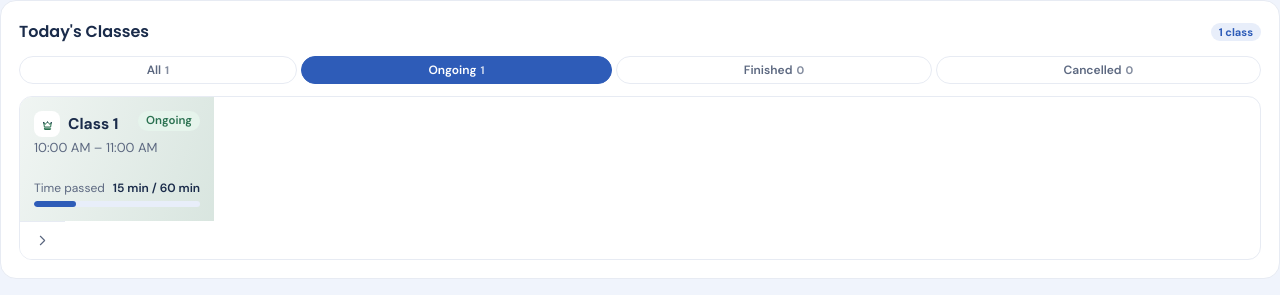
Test: today's classes filter › says a filter matched nothing without borrowing the empty day's copy
This screenshot has width=1280, height=295.
Click the radio button with aria-label "Finished (0)".
click(774, 70)  # box [616,56,932,84]
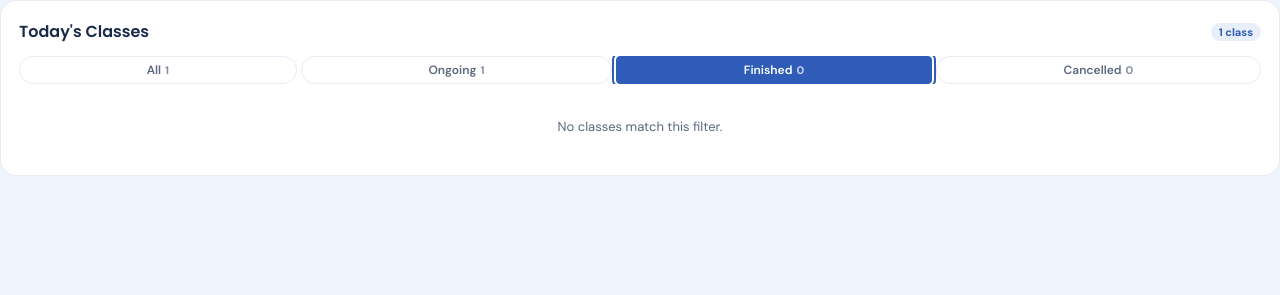
Expected: the text "No classes match this filter." is shown, [558,118,722,135]
